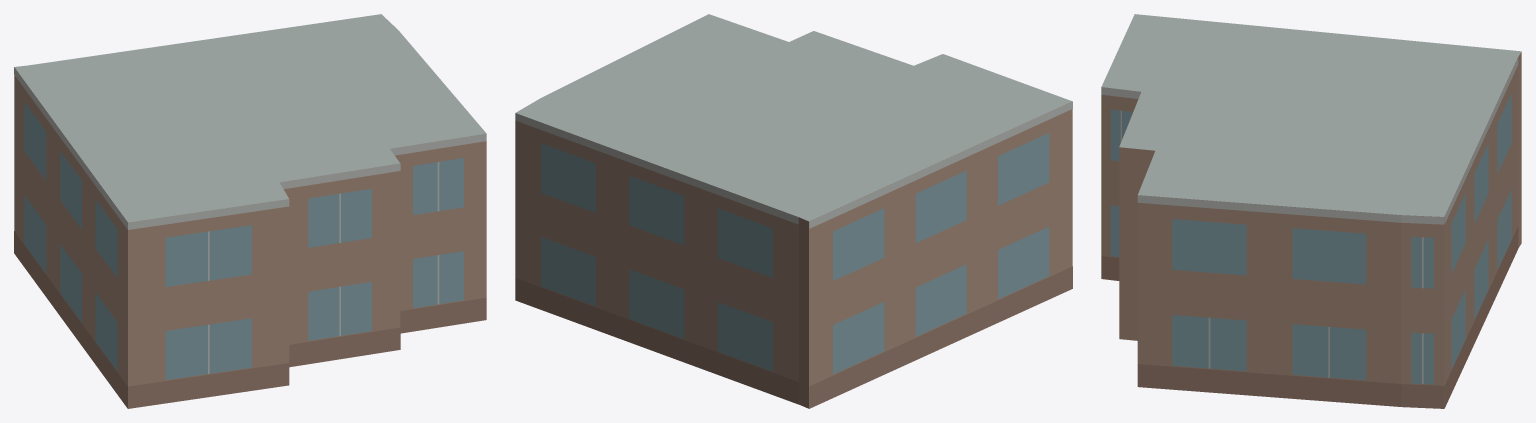
File: survey-upis-32823633.glb
3 renders of one model, left to right at view 1: azimuth 30°, elevation 25°; view 2: azimuth 150°, elevation 25°; view 3: azimuth 270°, elevation 25°, orthographic. The views are drawn at different scales.
Visible parts, largest first — view 1: survey-upis-32823633.tmp; view 2: survey-upis-32823633.tmp; view 3: survey-upis-32823633.tmp.
Part boxes in pixels (left/top/right/bottom): survey-upis-32823633.tmp: left=14, top=14, right=486, bottom=408; survey-upis-32823633.tmp: left=515, top=14, right=1072, bottom=408; survey-upis-32823633.tmp: left=1101, top=14, right=1521, bottom=408.
Bounding box in the file's own units: 13.85 × 6.1 × 12.12.
